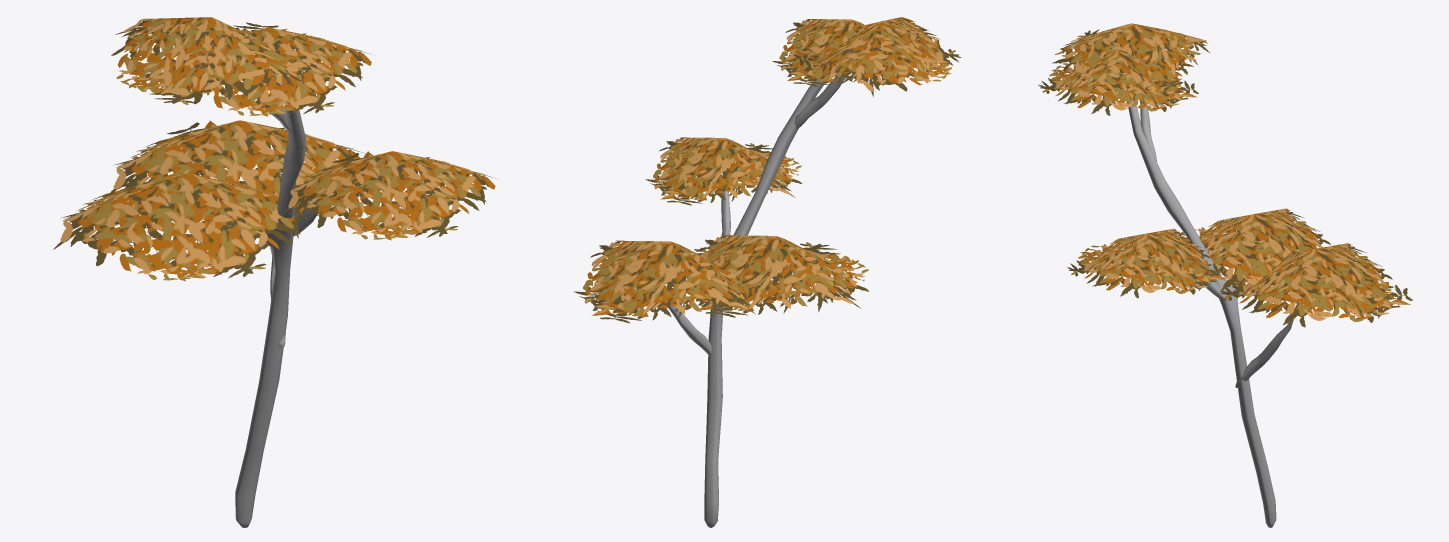
File: orange_tree.fbx
The picture shows the model from 3 angles, left to right: view 1: azimuth 30°, elevation 25°; view 2: azimuth 150°, elevation 25°; view 3: azimuth 270°, elevation 25°; orthographic projection. The views are drawn at different scales.
Parts seen in each view (by area): view 1: pPlane113; view 2: pPlane113; view 3: pPlane113.
Part boxes in pixels (box(x1,y1,x2,y2)): pPlane113: box(53, 17, 496, 527); pPlane113: box(574, 17, 961, 527); pPlane113: box(1038, 23, 1412, 527).
Size of the model in its own units: 1.59 by 2.17 by 1.8.
